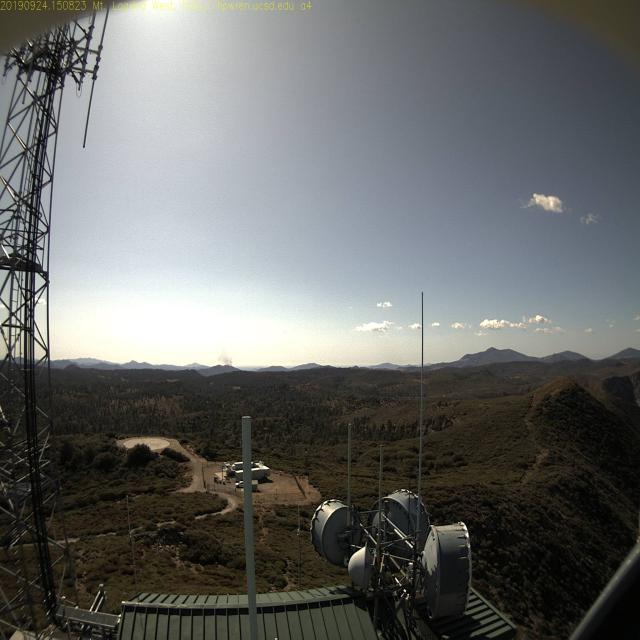smoke: (218, 347, 234, 369)
